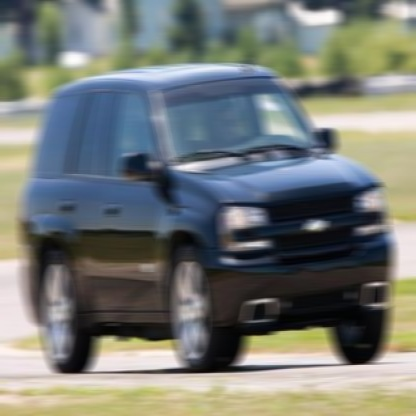Vehicle: (21, 34, 395, 374)
